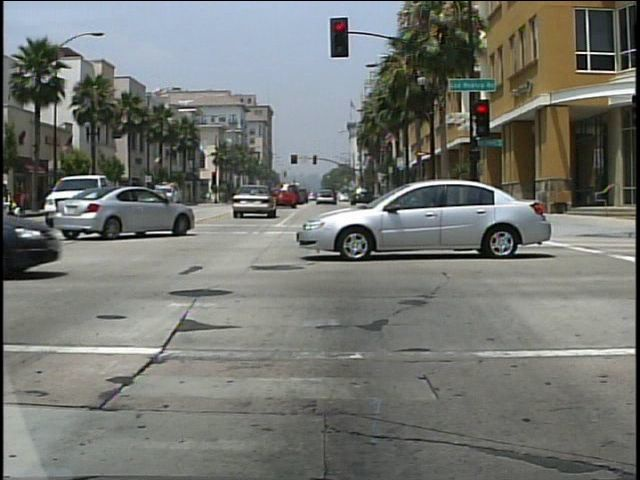person: (2, 174, 25, 231)
